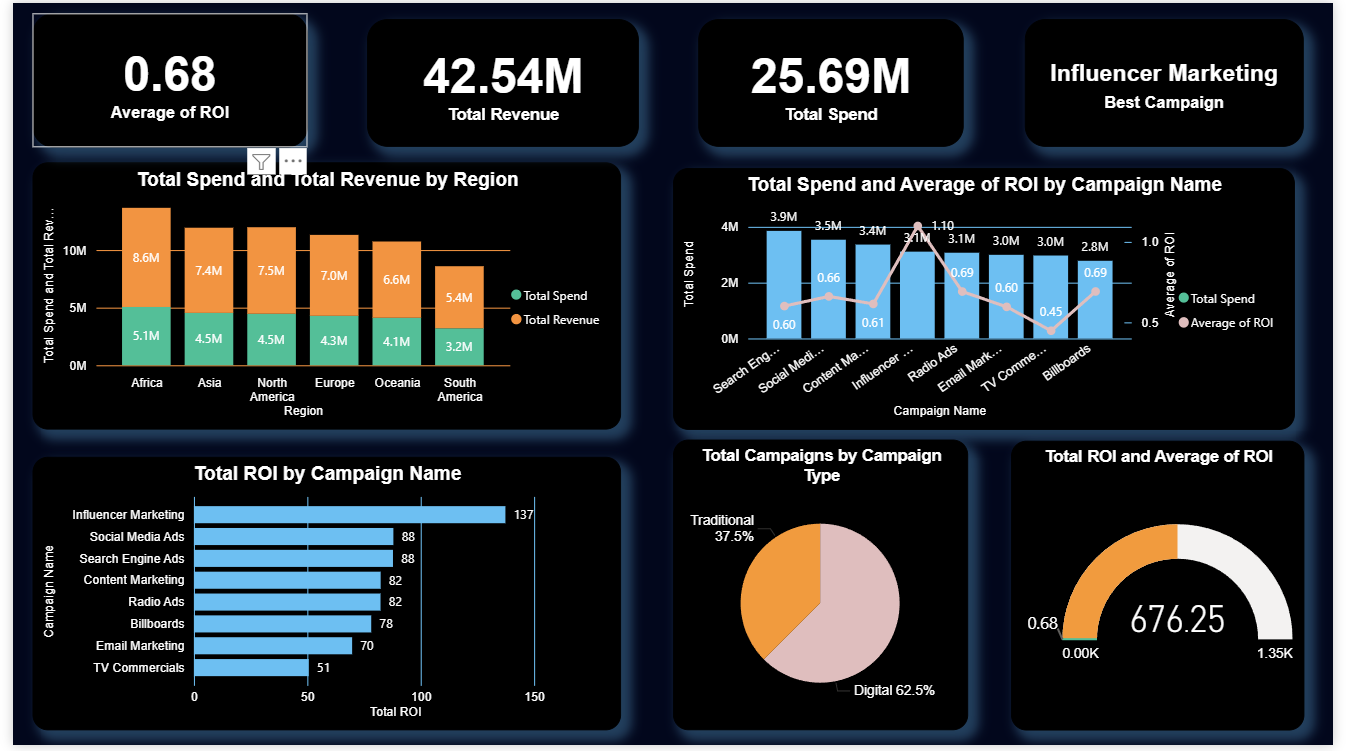

This screenshot's page, from the dashboard's own definition file:
{"tool":"powerbi","page":{"name":"Campaign Performance Overview","canvas":[1280,720],"ordinal":0},"visuals":[{"type":"columnChart","fields":{"Y":["Marketing Campaign Performance.Total Spend","Marketing Campaign Performance.Total Revenue"],"Category":["Region Performance.Region"]},"box":[18.7,154.2,570.8,259.5],"z":0},{"type":"lineClusteredColumnComboChart","fields":{"Category":["Marketing Campaign Performance.Campaign Name"],"Y":["Marketing Campaign Performance.Total Spend"],"Y2":["Avg(Marketing Campaign Performance.ROI)"]},"box":[640,160,602.9,253.9],"z":1000},{"type":"card","fields":{"Values":["Marketing Campaign Performance.Total Revenue"]},"box":[343.3,15.5,263.9,124.2],"z":2000},{"type":"card","fields":{"Values":["Avg(Marketing Campaign Performance.ROI)"]},"box":[18.7,10.1,266.7,129.7],"z":3000},{"type":"card","fields":{"Values":["Marketing Campaign Performance.Total Spend"]},"box":[664.2,15.5,257,124.2],"z":4000},{"type":"card","fields":{"Values":["Marketing Campaign Details.Best Campaign"]},"box":[981.6,15.5,270.8,124.2],"z":5000},{"type":"barChart","fields":{"Category":["Marketing Campaign Details.Campaign Name"],"Y":["Marketing Campaign Performance.Total ROI"]},"box":[18.7,439.6,570.8,265.2],"z":6000},{"type":"pieChart","title":"Total Campaigns by Campaign Type","fields":{"Category":["Marketing Campaign Details.Campaign Type"],"Y":["CountNonNull(Marketing Campaign Details.Total Campaigns)"]},"box":[640,423.2,286.4,281.7],"z":7000},{"type":"gauge","fields":{"Y":["Marketing Campaign Performance.Total ROI"],"TargetValue":["Avg(Marketing Campaign Performance.ROI)"]},"box":[967.8,424.4,284.6,281.2],"z":8000}]}

Visuals, with their boxes in screenshot pixels (x1, y1, x2, y2), scaled from the page's 1280x720 canvas onto the 1366x751 screenshot:
columnChart - Marketing Campaign Performance.Total Spend x Marketing Campaign Performance.Total Revenue: {"left": 20, "top": 161, "right": 629, "bottom": 432}
lineClusteredColumnComboChart - Marketing Campaign Performance.Campaign Name x Marketing Campaign Performance.Total Spend: {"left": 683, "top": 167, "right": 1326, "bottom": 432}
card - Marketing Campaign Performance.Total Revenue: {"left": 366, "top": 16, "right": 648, "bottom": 146}
card - Avg(Marketing Campaign Performance.ROI): {"left": 20, "top": 11, "right": 305, "bottom": 146}
card - Marketing Campaign Performance.Total Spend: {"left": 709, "top": 16, "right": 983, "bottom": 146}
card - Marketing Campaign Details.Best Campaign: {"left": 1048, "top": 16, "right": 1337, "bottom": 146}
barChart - Marketing Campaign Details.Campaign Name x Marketing Campaign Performance.Total ROI: {"left": 20, "top": 459, "right": 629, "bottom": 735}
"Total Campaigns by Campaign Type" pieChart: {"left": 683, "top": 441, "right": 989, "bottom": 735}
gauge - Marketing Campaign Performance.Total ROI x Avg(Marketing Campaign Performance.ROI): {"left": 1033, "top": 443, "right": 1337, "bottom": 736}
